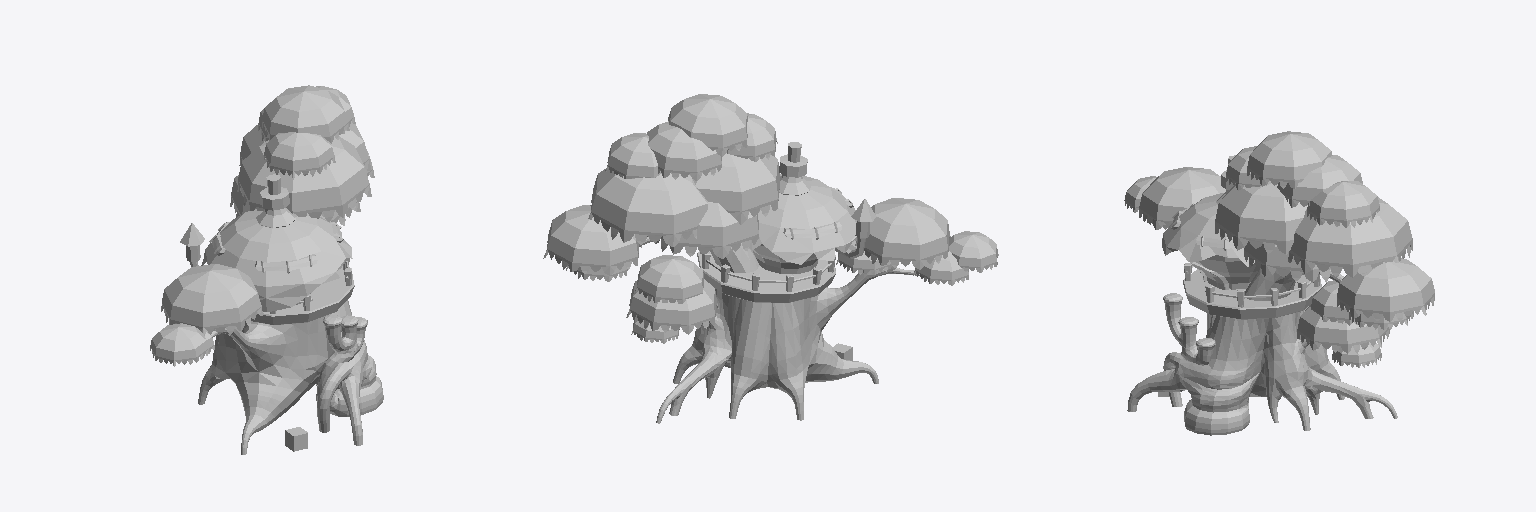
The model's file is house_on_tree_rescaled.obj.
The picture shows the model from 3 angles: view 1: azimuth 30°, elevation 25°; view 2: azimuth 150°, elevation 25°; view 3: azimuth 270°, elevation 25°; orthographic projection.
Parts seen in each view (by area): view 1: house_on_tree; view 2: house_on_tree; view 3: house_on_tree.
Part boxes in pixels (left/top/right/bottom): house_on_tree: left=150, top=85, right=383, bottom=454; house_on_tree: left=543, top=94, right=998, bottom=423; house_on_tree: left=1124, top=131, right=1434, bottom=435.
Bounding box in the file's own units: 44.79 × 38.39 × 36.58.